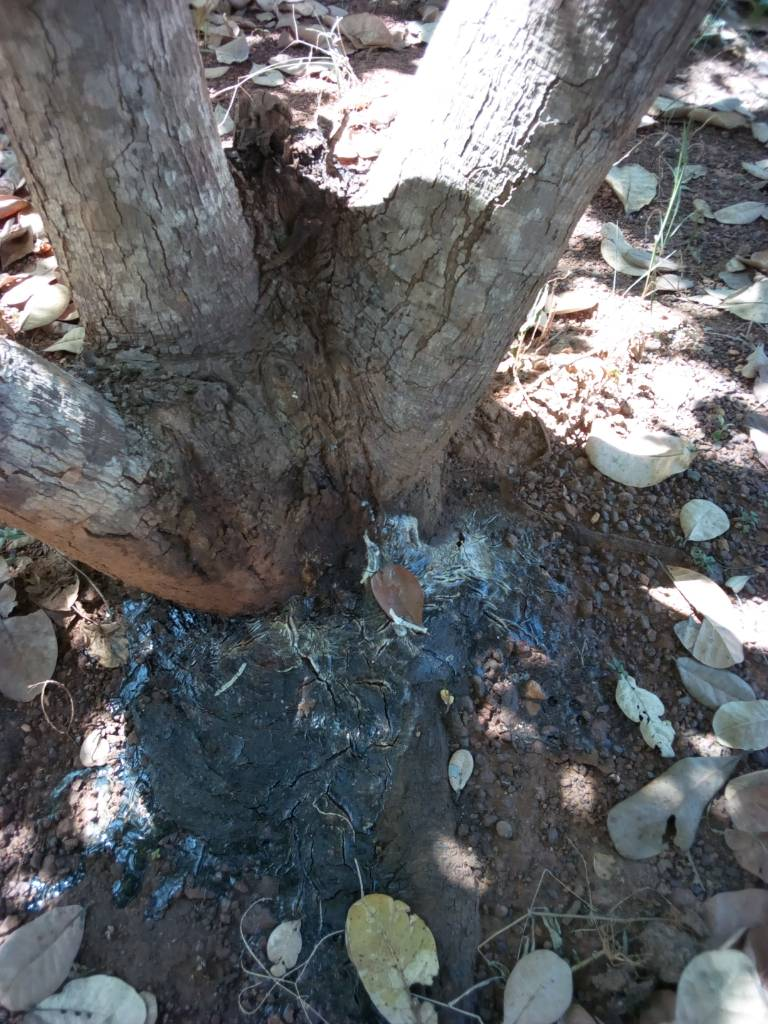Gommose: (154, 444, 366, 588)
